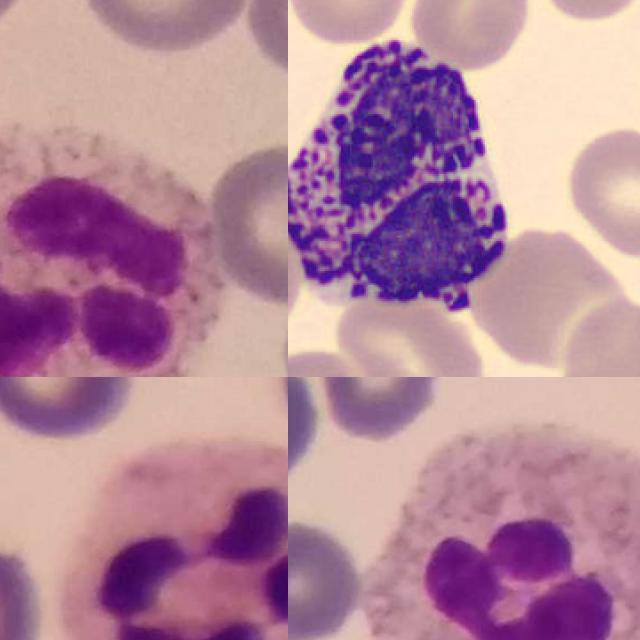Basophil: (288, 24, 524, 327)
Neutrophil: (364, 426, 640, 640), (0, 117, 224, 377), (60, 439, 288, 640)
RBC: (325, 281, 495, 377), (561, 122, 640, 262), (408, 0, 533, 73), (554, 294, 640, 377), (288, 0, 422, 45)
